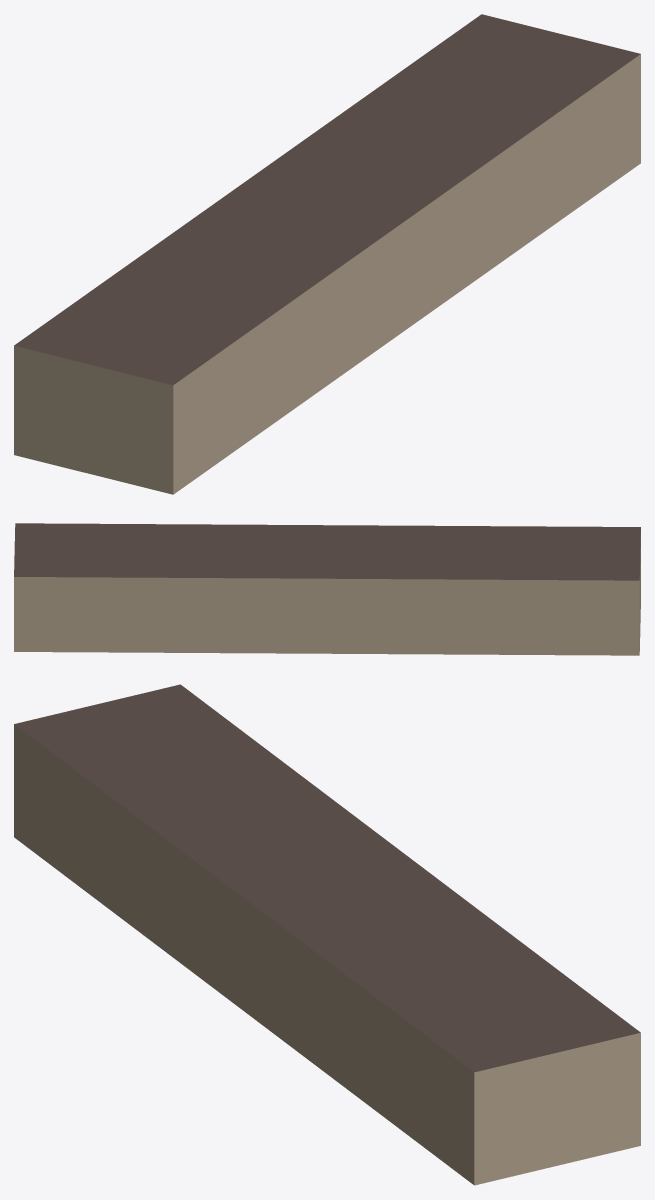
The picture shows the model from 3 angles, top to bottom: view 1: azimuth 30°, elevation 25°; view 2: azimuth 150°, elevation 25°; view 3: azimuth 270°, elevation 25°; orthographic projection. The views are drawn at different scales.
Parts seen in each view (by area): view 1: HP-w859088533; view 2: HP-w859088533; view 3: HP-w859088533.
Part boxes in pixels (x1,y1,x2,y2): HP-w859088533: (14, 14, 640, 494); HP-w859088533: (14, 523, 640, 655); HP-w859088533: (14, 684, 640, 1185).
Bounding box in the file's own units: 66.18 × 9 × 45.19.
